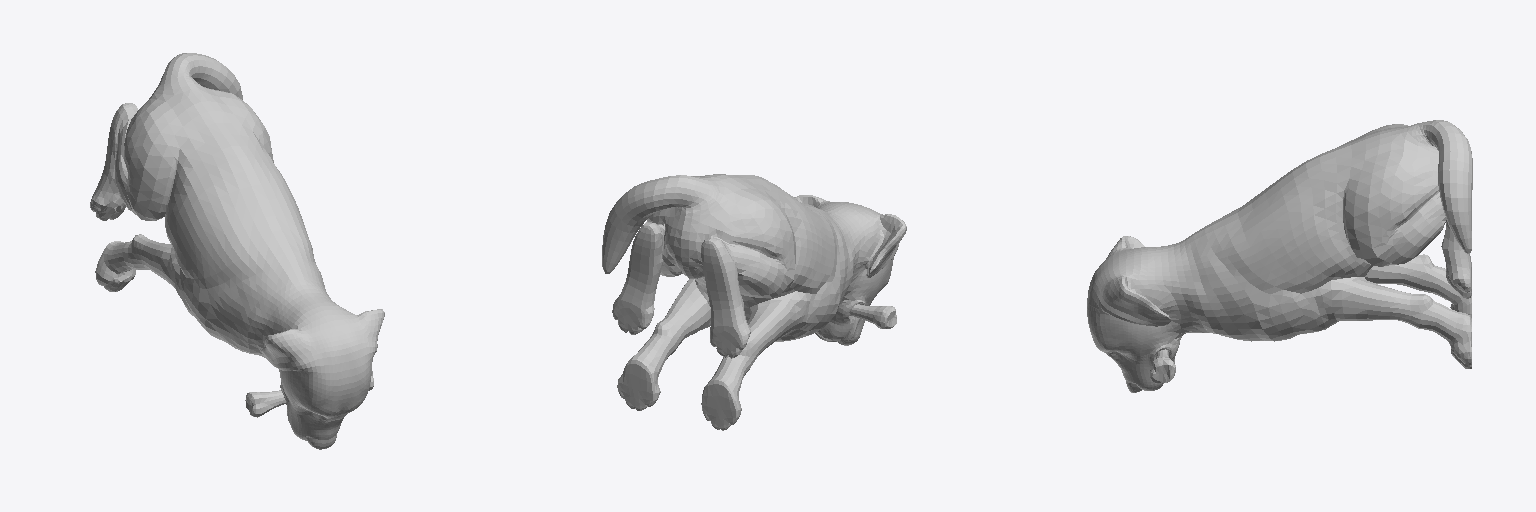
The model's file is dog2.obj.
3 renders of one model, left to right at view 1: azimuth 30°, elevation 25°; view 2: azimuth 150°, elevation 25°; view 3: azimuth 270°, elevation 25°, orthographic.
Visible parts, largest first — view 1: ConcreteDogStatue; view 2: ConcreteDogStatue; view 3: ConcreteDogStatue.
Part boxes in pixels (bbox=[...]): ConcreteDogStatue: bbox=[90, 53, 384, 449]; ConcreteDogStatue: bbox=[602, 174, 906, 430]; ConcreteDogStatue: bbox=[1087, 120, 1472, 392].
Size of the model in its own units: 18.97 by 33.55 by 42.66.